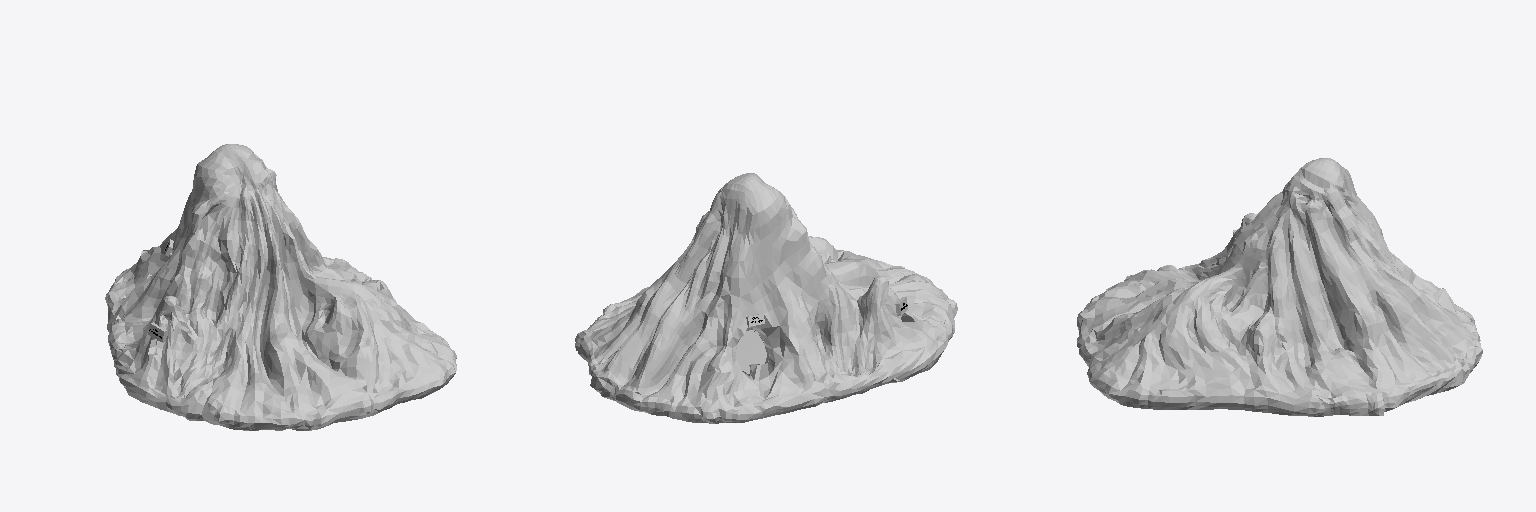
Rendered from mountainDef.obj.
3 views of the same model, side by side, from view 1: azimuth 30°, elevation 25°; view 2: azimuth 150°, elevation 25°; view 3: azimuth 270°, elevation 25° (orthographic).
Visible parts, largest first — view 1: obj1; view 2: obj1; view 3: obj1.
Boxes of the visible parts, <box> form: obj1: <box>105,144,456,430</box>; obj1: <box>575,173,957,423</box>; obj1: <box>1077,158,1482,416</box>.
Size of the model in its own units: 63.58 by 39.35 by 76.2.